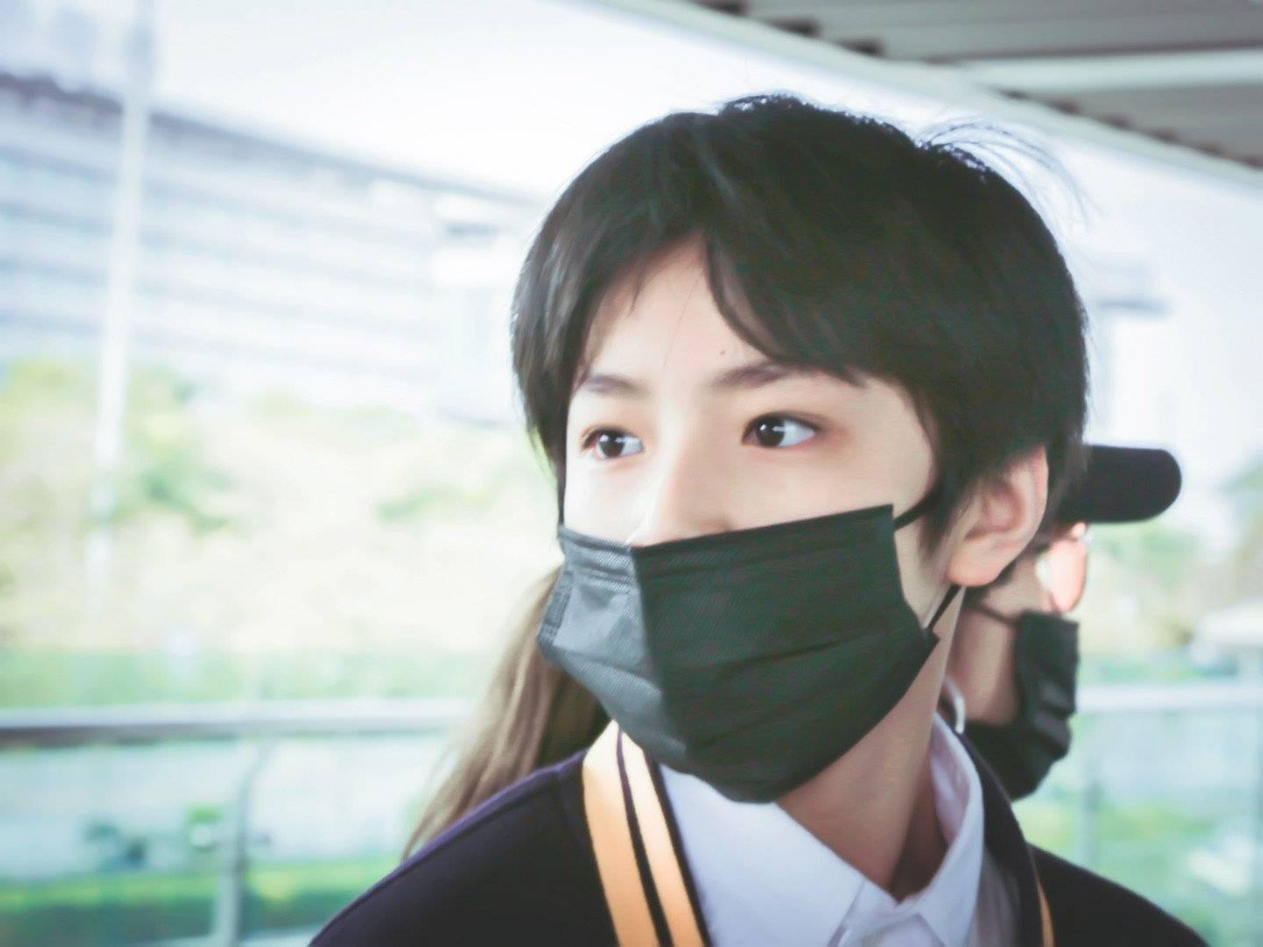OK: (958, 524, 1088, 806)
WRONG: (556, 309, 921, 789)
